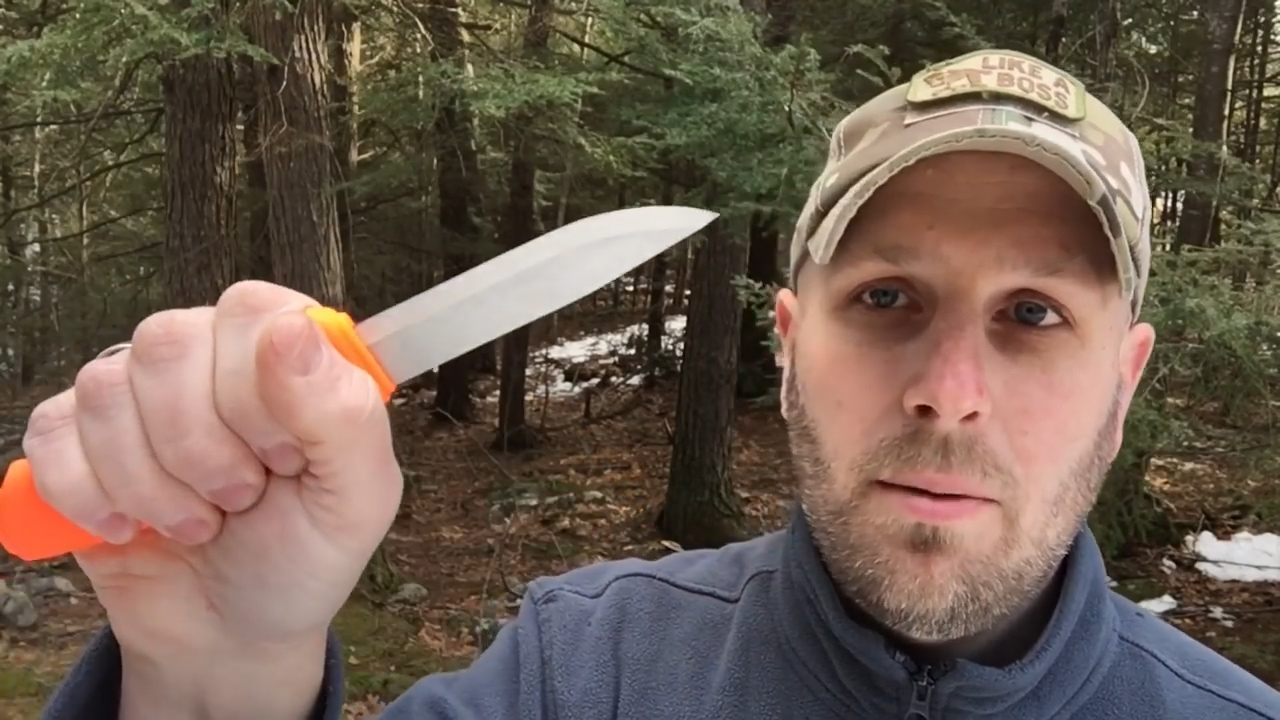knife: (177, 197, 734, 514)
